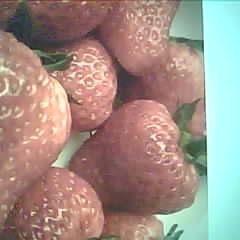straw-ripe: (72, 99, 199, 216)
